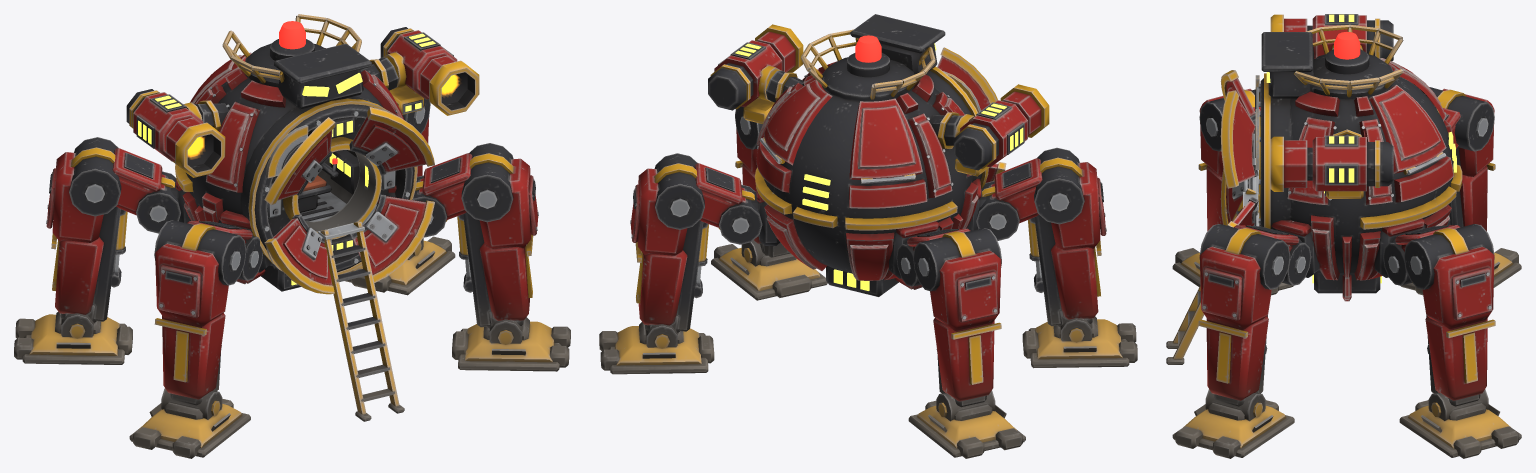
Rendered from BossMech.fbx.
3 renders of one model, left to right at view 1: azimuth 30°, elevation 25°; view 2: azimuth 150°, elevation 25°; view 3: azimuth 270°, elevation 25°, orthographic. The views are drawn at different scales.
Parts seen in each view (by area): view 1: Body, Shin_FL, Shin_FR, Shin_RL, Foot_FR, Foot_RL, Ladder, Foot_FL, CockpitPetal_3, Thigh_RL, CockpitPetal_0, CockpitPetal_2 (+12 smaller); view 2: Body, Shin_RL, Shin_RR, Shin_FL, Foot_RR, Foot_FL, MissileHatch_L, Foot_RL, Foot_FR, Gun_R, Gun_L, Thigh_RR (+8 smaller); view 3: Body, Shin_RR, Shin_FR, Shin_RL, Foot_FR, Foot_RR, Gun_R, MissileHatch_R, CockpitPetal_0, Shin_FL, GunBarrel_R, Gun_L (+11 smaller).
Part boxes in pixels (box(x1,y1,x2,y2)): Body: box(170, 14, 417, 291); Shin_FL: box(154, 220, 246, 405); Shin_FR: box(461, 143, 538, 328); Shin_RL: box(46, 137, 121, 322); Foot_FR: box(452, 317, 570, 371); Foot_RL: box(14, 311, 132, 364); Ladder: box(318, 221, 404, 421); Foot_FL: box(129, 388, 250, 458); CockpitPetal_3: box(349, 194, 434, 282); Thigh_RL: box(112, 148, 180, 233); CockpitPetal_0: box(349, 107, 434, 175); CockpitPetal_2: box(264, 214, 334, 294); Body: box(751, 14, 988, 296); Shin_RL: box(913, 228, 1001, 407); Shin_RR: box(630, 153, 704, 332); Shin_FL: box(1034, 147, 1106, 327); Foot_RR: box(599, 322, 714, 374); Foot_FL: box(1022, 316, 1137, 368); MissileHatch_L: box(849, 98, 922, 183); Foot_RL: box(908, 390, 1025, 458); Foot_FR: box(711, 240, 827, 300); Gun_R: box(708, 40, 782, 123); Gun_L: box(953, 100, 1027, 176); Thigh_RR: box(694, 163, 762, 244); Body: box(1258, 24, 1462, 301); Shin_RR: box(1404, 224, 1495, 406); Shin_FR: box(1198, 224, 1290, 406); Shin_RL: box(1429, 87, 1495, 231); Foot_FR: box(1172, 389, 1294, 458); Foot_RR: box(1399, 389, 1521, 458); Gun_R: box(1312, 135, 1393, 198); MissileHatch_R: box(1369, 85, 1446, 174); CockpitPetal_0: box(1220, 90, 1258, 188); Shin_FL: box(1198, 88, 1260, 231); GunBarrel_R: box(1270, 136, 1312, 191); Gun_L: box(1312, 14, 1393, 61).
Bounding box in the file's own units: 6.26 × 4.49 × 4.48.
